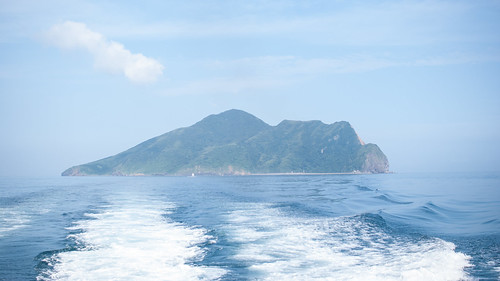turtleIsland: (58, 108, 393, 174)
